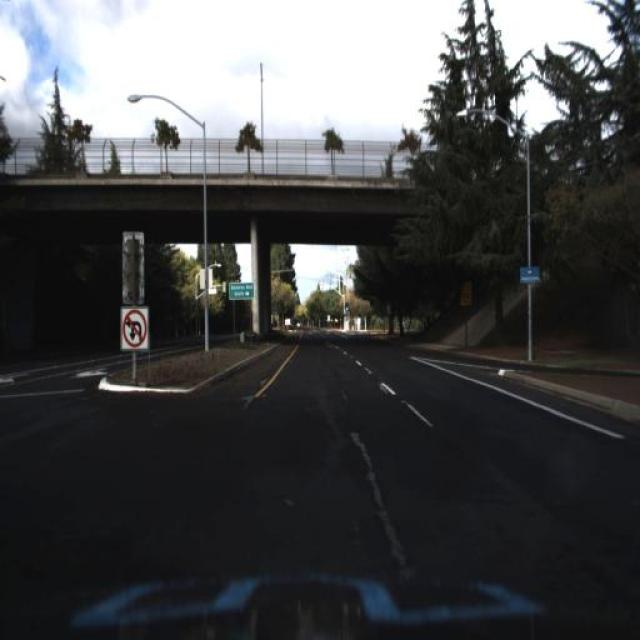trafficLight-GreenLeft: (344, 300, 350, 314)
